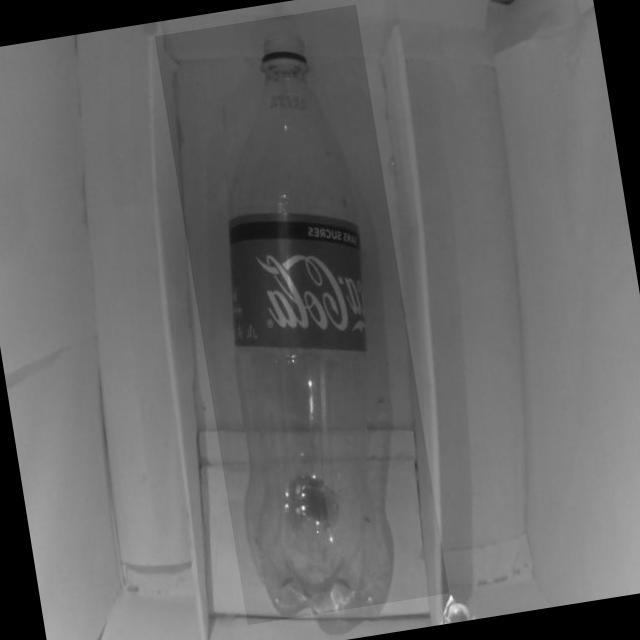good: (154, 4, 450, 626)
